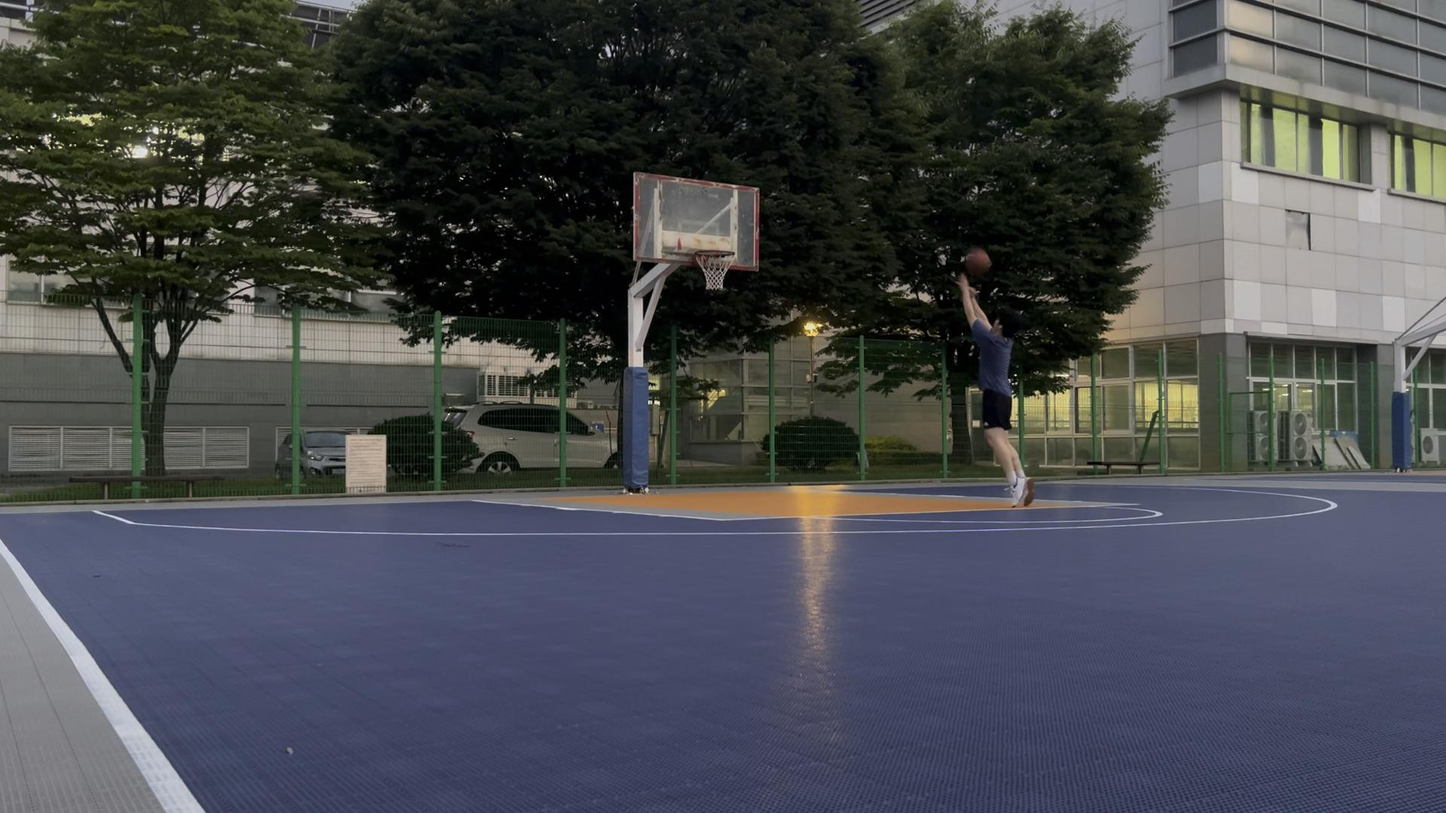ball: (964, 247, 993, 273)
human: (953, 272, 1036, 509)
rim: (694, 249, 736, 291)
